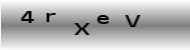4: (19, 9, 35, 24)
V: (124, 13, 141, 28)
X: (72, 22, 91, 37)
e: (96, 14, 110, 25)
r: (44, 12, 58, 24)
